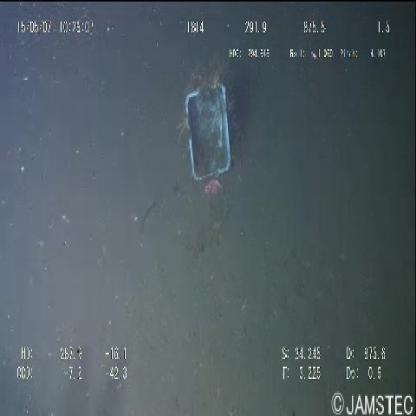Rác: (182, 84, 232, 184)
